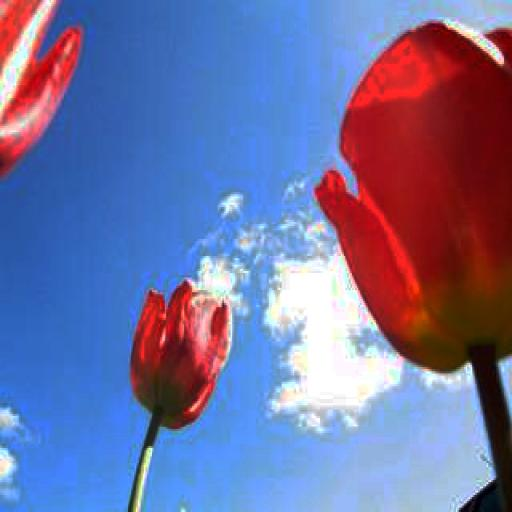tulip: (313, 23, 512, 375), (130, 279, 235, 429)
